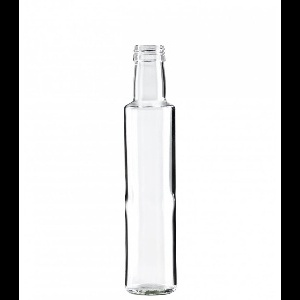emptybottle: (123, 45, 177, 295)
